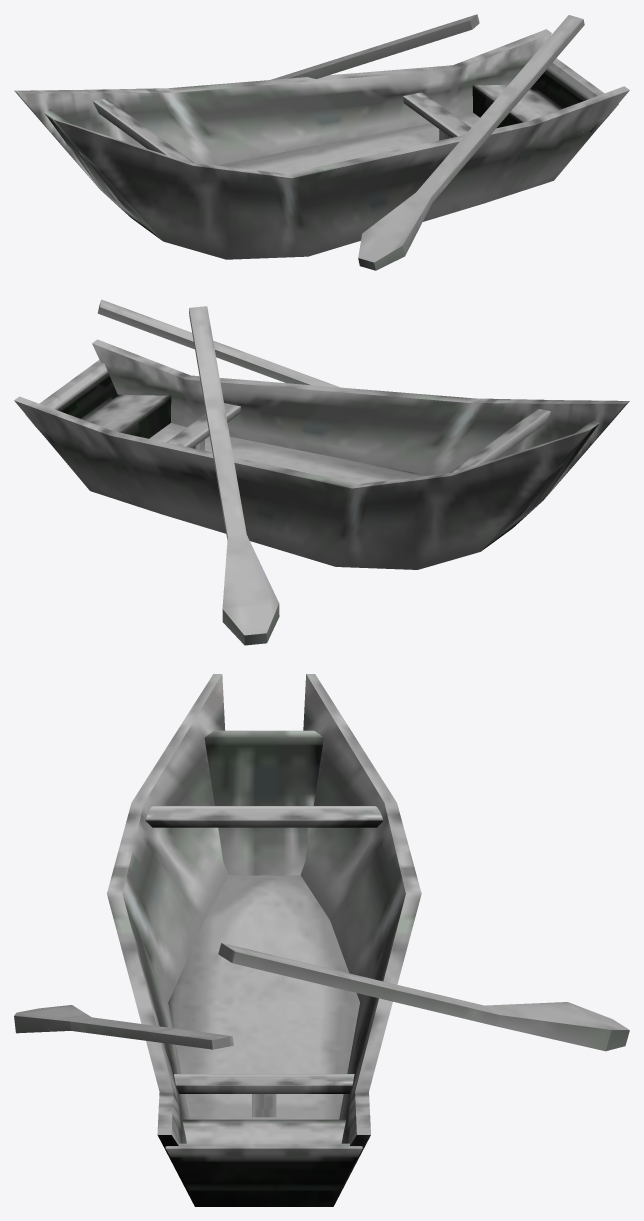
Rendered from general_obj_ferryboat03.fbx.
3 renders of one model, top to bottom at view 1: azimuth 30°, elevation 25°; view 2: azimuth 150°, elevation 25°; view 3: azimuth 270°, elevation 25°, orthographic. The views are drawn at different scales.
Parts seen in each view (by area): view 1: Object10; view 2: Object10; view 3: Object10.
Boxes of the visible parts, <box> form: Object10: <box>14,14,629,270</box>; Object10: <box>14,299,629,645</box>; Object10: <box>14,674,629,1206</box>.
Size of the model in its own units: 5.3 by 1.67 by 3.99.
